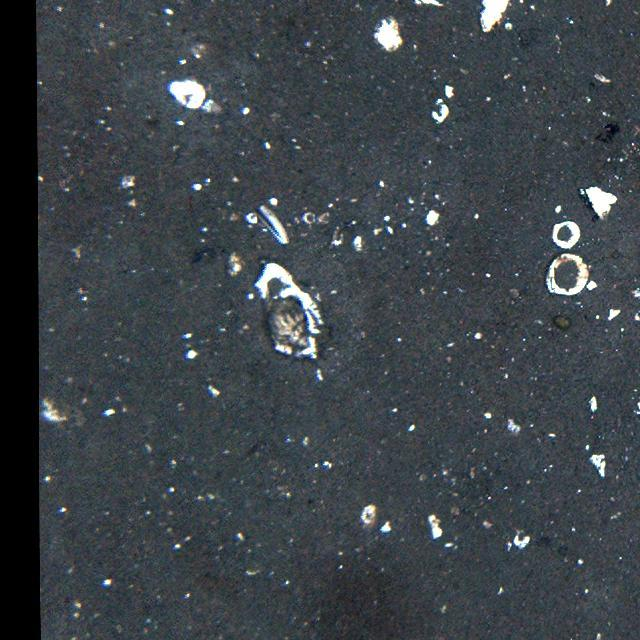whelk: (260, 292, 309, 350)
